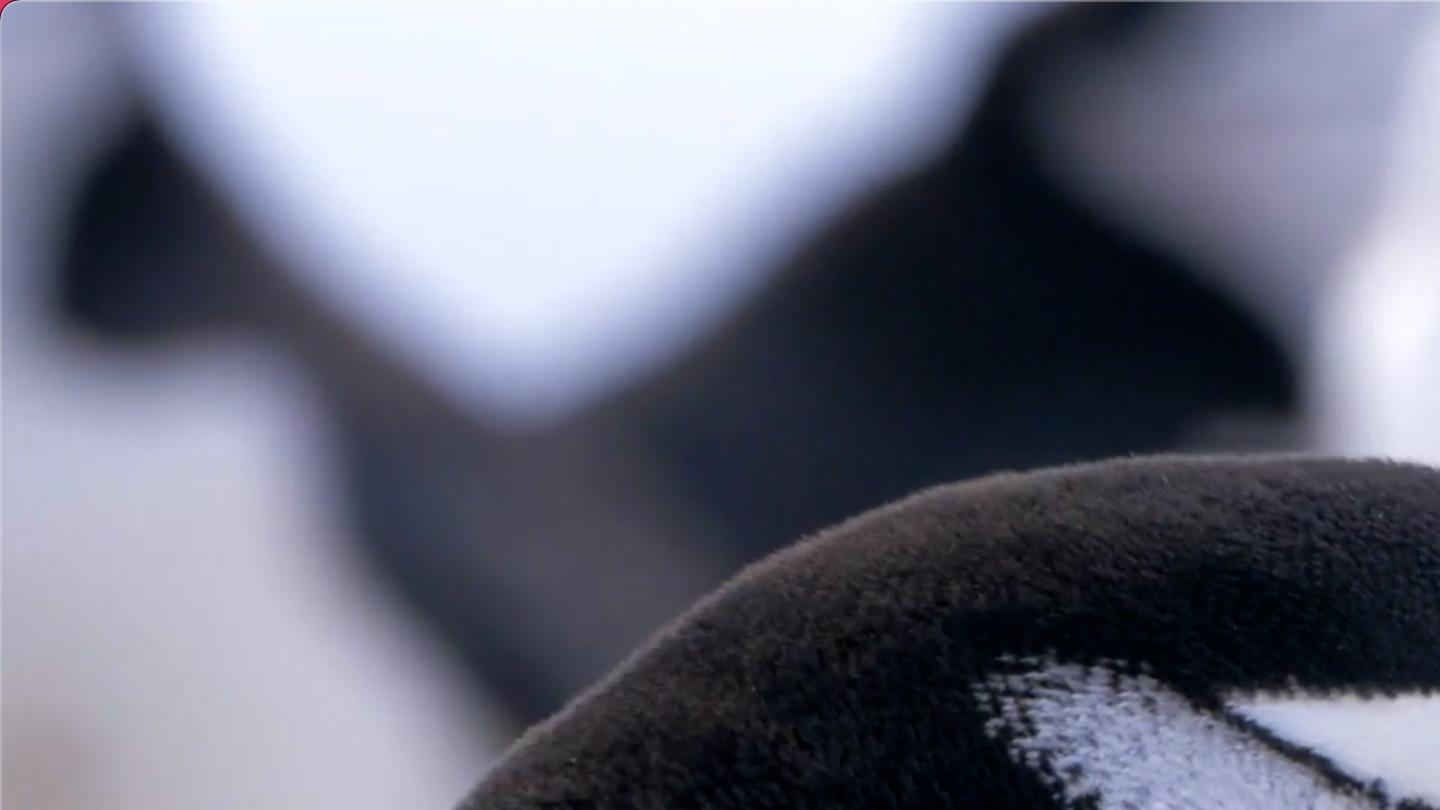Chinstrap Penguin: (78, 385, 1440, 810)
